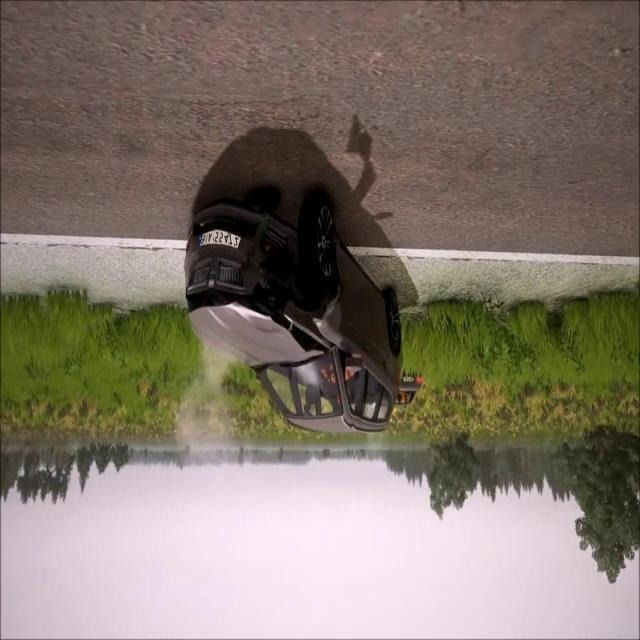vehicle: (168, 154, 440, 526)
